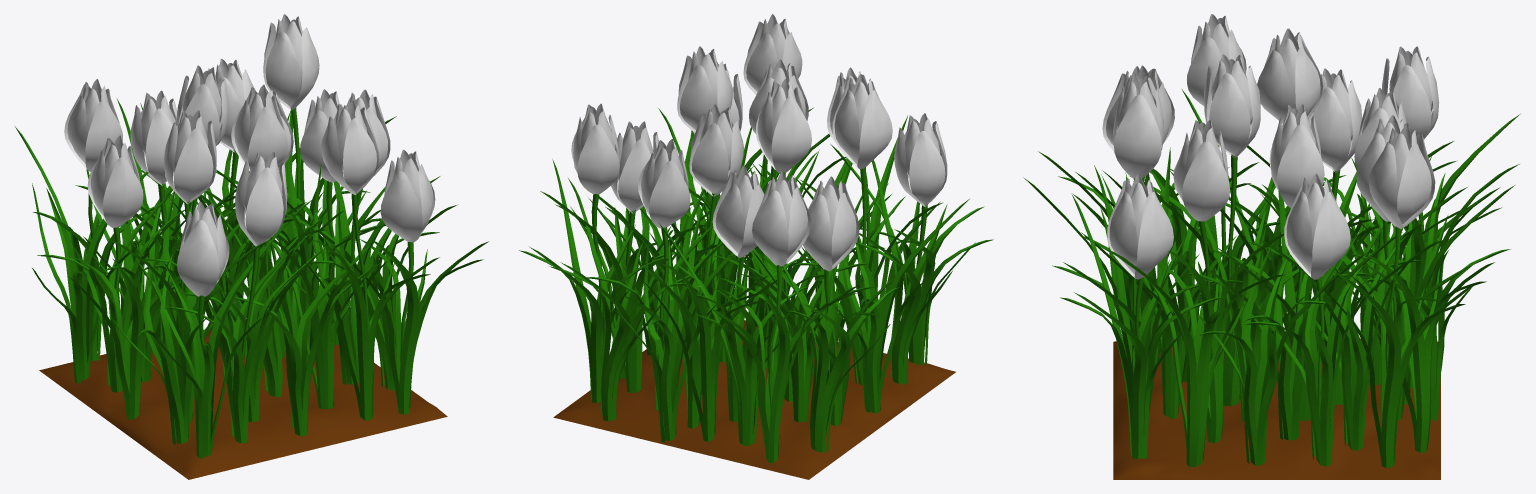
File: white-tulip-p4-bloom.glb
3 renders of one model, left to right at view 1: azimuth 30°, elevation 25°; view 2: azimuth 150°, elevation 25°; view 3: azimuth 270°, elevation 25°, orthographic. The views are drawn at different scales.
Parts seen in each view (by area): view 1: 4_nft_bloom; view 2: 4_nft_bloom; view 3: 4_nft_bloom.
Part boxes in pixels (x1,y1,x2,y2): 4_nft_bloom: (15, 14, 488, 479); 4_nft_bloom: (519, 14, 993, 479); 4_nft_bloom: (1023, 14, 1520, 479).
Bounding box in the file's own units: 0.9577 × 0.8494 × 1.07.
